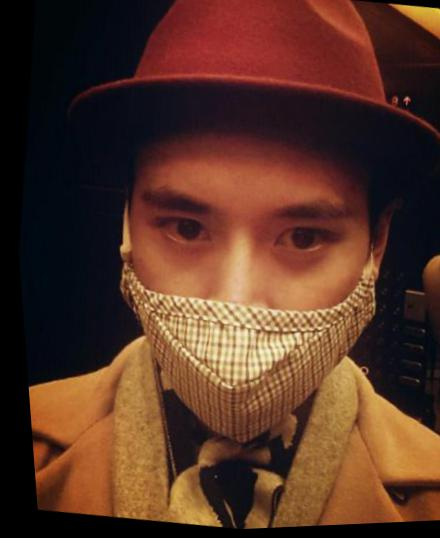WRONG: (91, 172, 389, 463)
